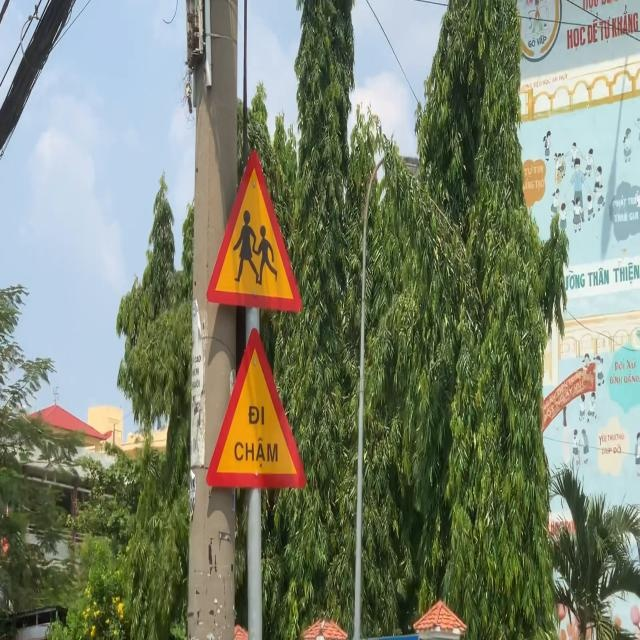bien_nguy_hiem: (205, 326, 308, 488), (205, 148, 303, 313)
